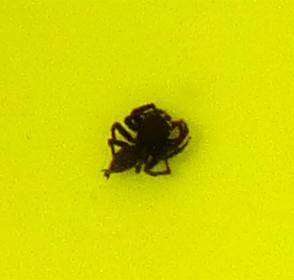Araneae: (100, 100, 194, 180)
